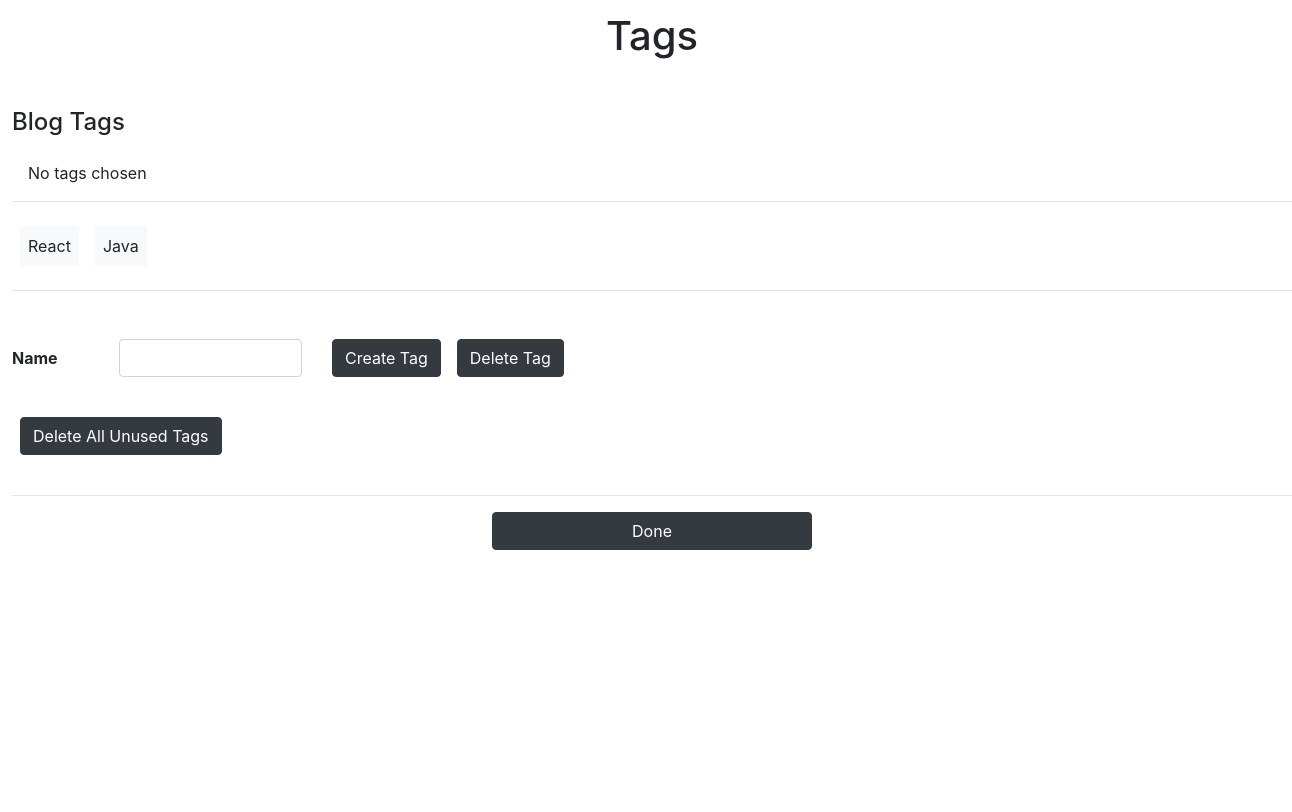
it: given a tag is deleted › should not delete tag if it is used
Check: the text "Java" is shown, box [95,226,147,266]
In the field labelled "Name": {"x": 210, "y": 358} [119,339,302,377], type "React"
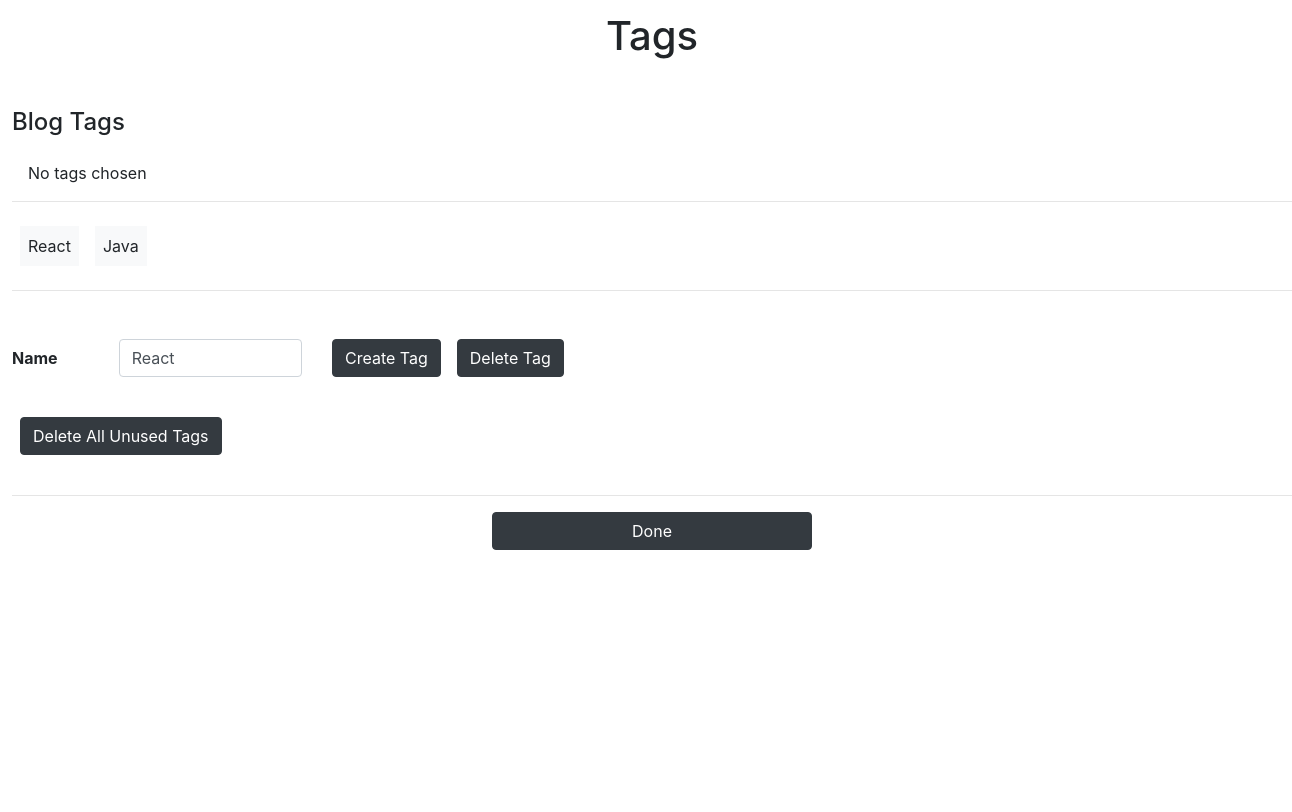
Click the button "Delete Tag": {"x": 510, "y": 358} [457,339,564,377]
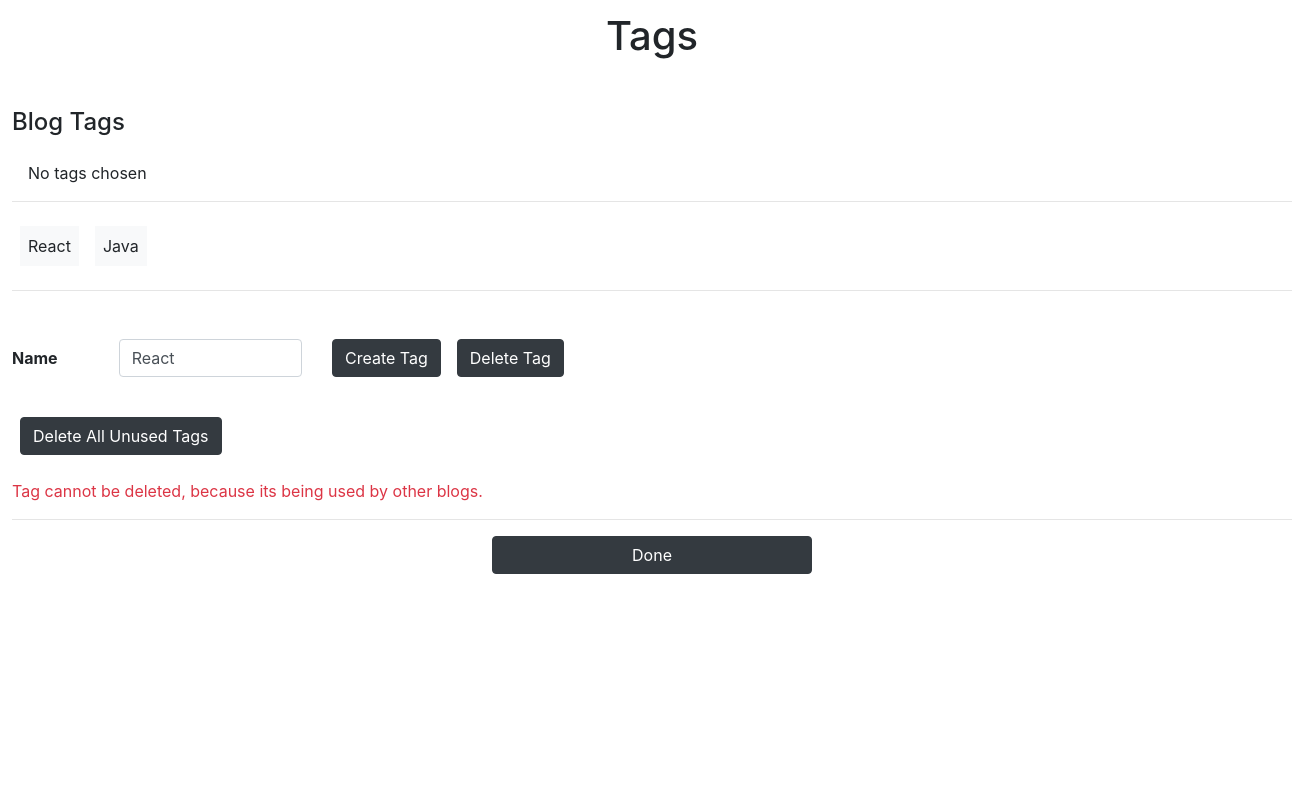
Check: the text "Tag cannot be deleted, because its being used by other blogs." is shown, box [12,481,483,501]
